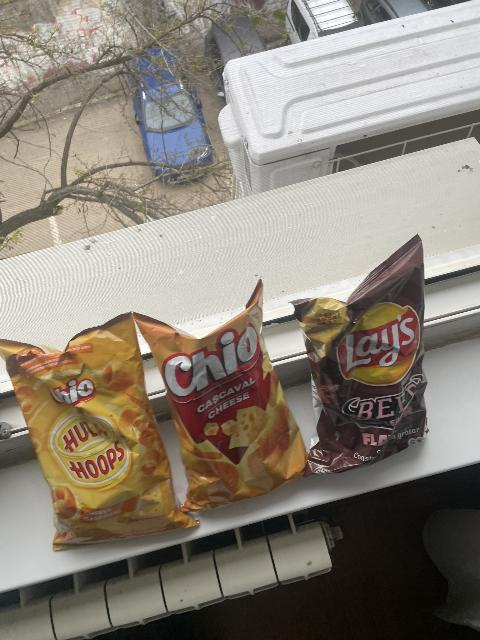Chio Cascaval 125g: (139, 289, 313, 506)
Chio Hula Hoops Cheese 70g: (1, 310, 203, 543)
Lays Beef Grilled Ribs 125g: (296, 233, 429, 473)
